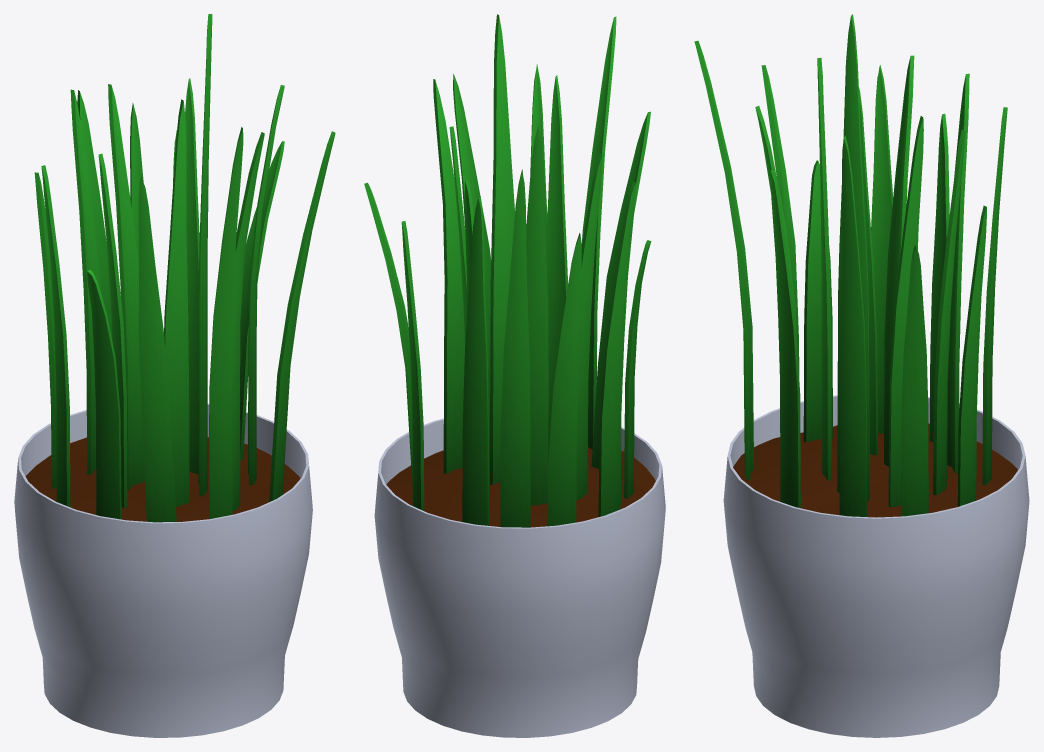
The model's file is low poly minimal desk plant.fbx.
3 renders of one model, left to right at view 1: azimuth 30°, elevation 25°; view 2: azimuth 150°, elevation 25°; view 3: azimuth 270°, elevation 25°, orthographic. The views are drawn at different scales.
Parts seen in each view (by area): view 1: Plant low poly; view 2: Plant low poly; view 3: Plant low poly.
Boxes of the visible parts, bbox=[...] form: Plant low poly: bbox=[14, 14, 335, 737]; Plant low poly: bbox=[364, 14, 665, 737]; Plant low poly: bbox=[694, 14, 1029, 737].
Size of the model in its own units: 33.58 by 80.02 by 35.28.
